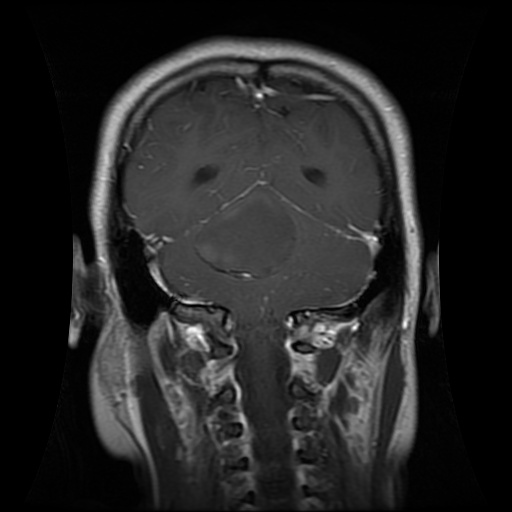glioma: (190, 186, 301, 280)
